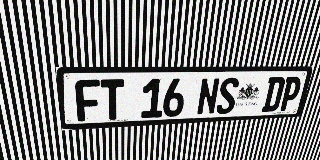1: (141, 78, 164, 118)
6: (162, 78, 186, 117)
D: (261, 77, 286, 112)
F: (75, 79, 101, 121)
N: (196, 78, 220, 115)
P: (278, 77, 303, 111)
S: (215, 77, 240, 114)
T: (100, 79, 124, 120)
